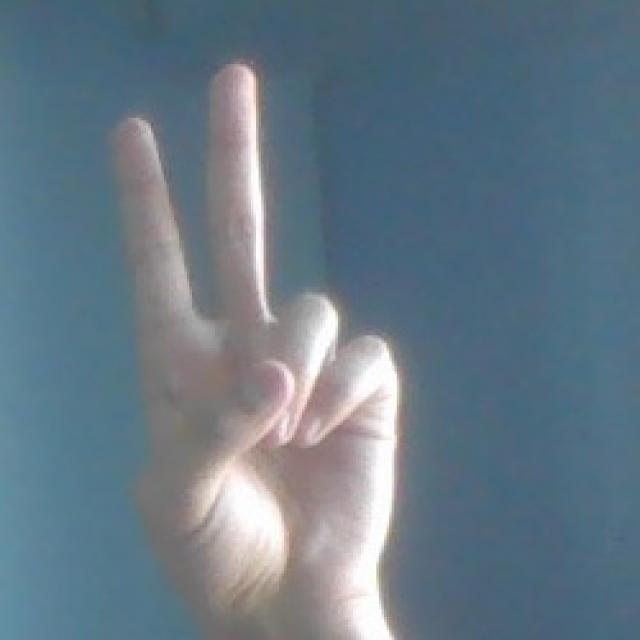Numeric-2: (103, 61, 396, 610)
